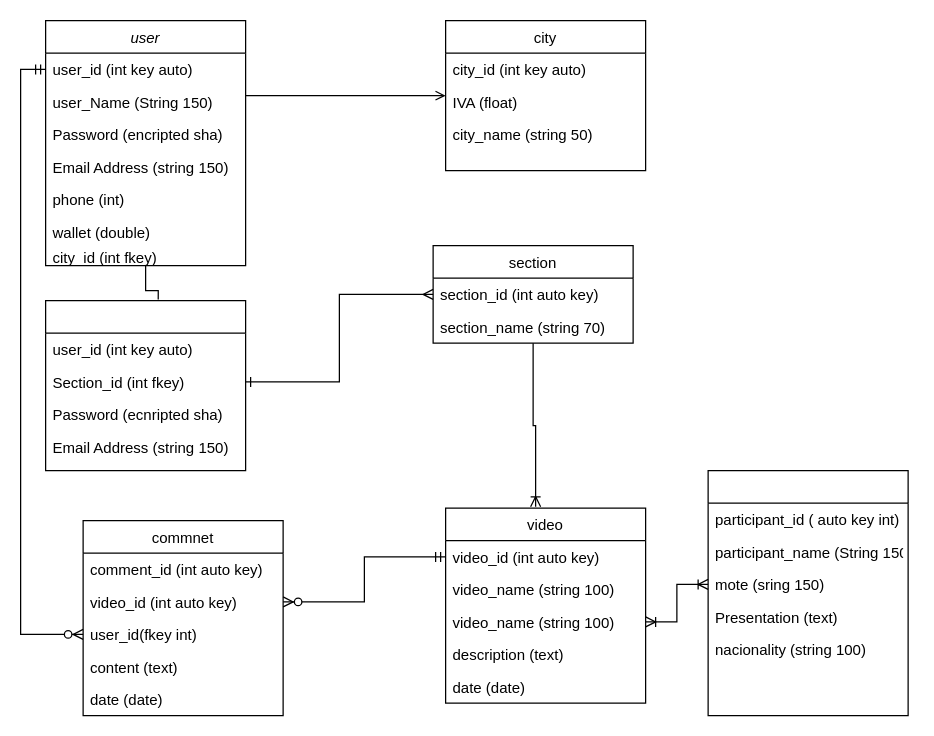
Image size: 934x736. Some labels were removed from this diagram. The shapes that lost their labels are listed below. From the top down, each one's box as (x1, y1, x2, y2) in pixels, then its label:
(44, 299, 246, 471): admin
(707, 469, 908, 716): participants
